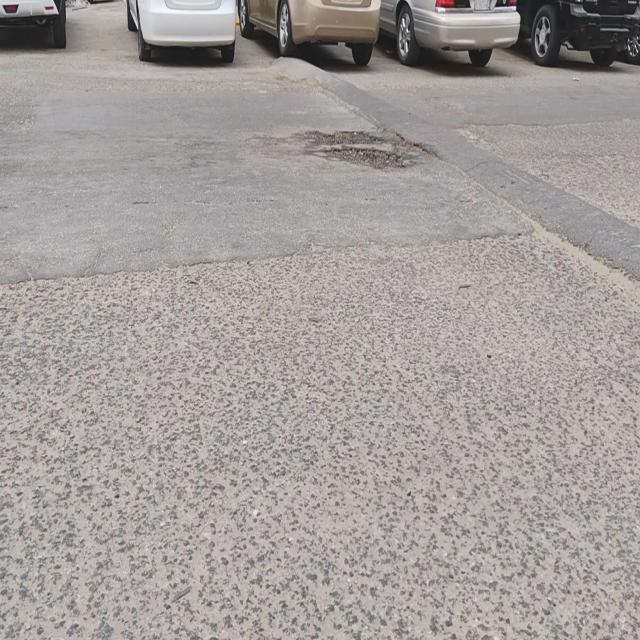Potholes: (308, 132, 419, 174)
